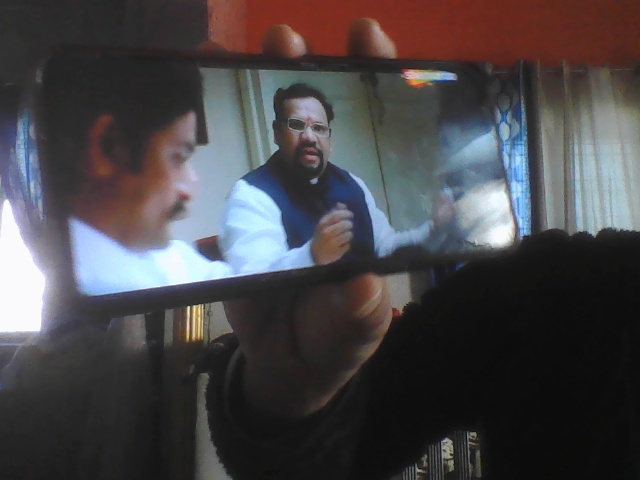fake: (74, 52, 219, 257)
